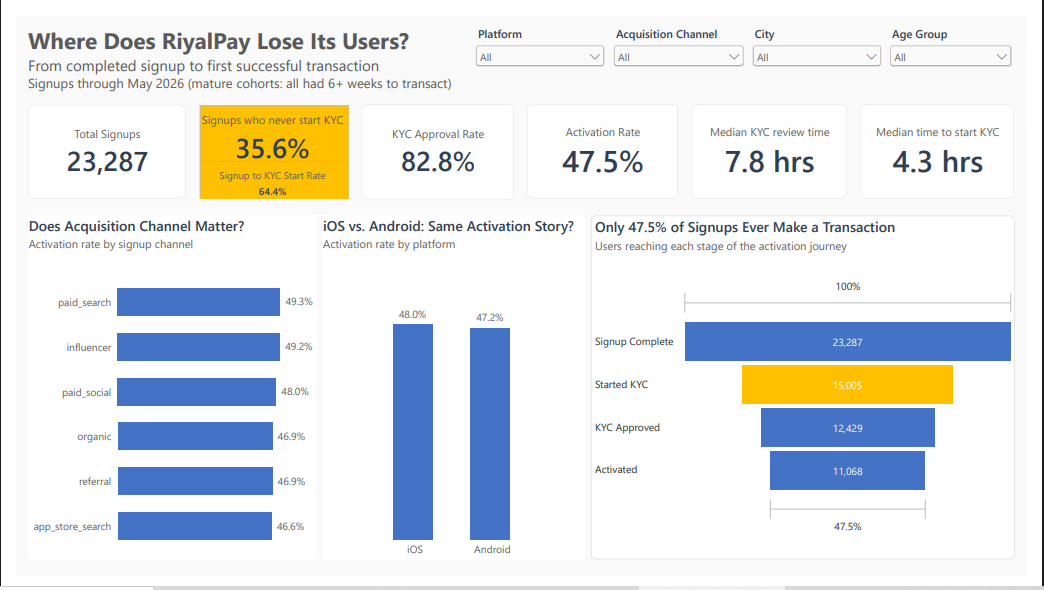

The dashboard page shown, as its layout file describes it:
{"tool":"powerbi","page":{"name":"Activation Funnel","canvas":[1440,800],"ordinal":0},"visuals":[{"type":"funnel","fields":{"Y":["_measures.Reached Signup","_measures.Reached KYC Start","_measures.Reached KYC Approved","_measures.Reached Activation"]},"box":[818.9,285,604.7,491.3],"z":0},{"type":"textbox","box":[15.7,11,1406.3,100.8],"z":1000},{"type":"cardVisual","fields":{"Data":["_measures.Total Signups"]},"box":[15.7,127,225.1,134.1],"z":1000,"group":"g1"},{"type":"slicer","fields":{"Values":["fact_user_funnel.platform"]},"box":[650,13.3,193.3,65],"z":2000},{"type":"cardVisual","fields":{"Data":["_measures.Signup to KYC Start Drop-off %"]},"box":[260.3,128.5,212.2,132.7],"z":2000,"group":"g1"},{"type":"slicer","fields":{"Values":["fact_user_funnel.signup_channel"]},"box":[846.7,13.3,195,68.3],"z":3000},{"type":"cardVisual","fields":{"Data":["_measures.KYC Approval Rate"]},"box":[491.3,126,217,137.1],"z":3000,"group":"g1"},{"type":"slicer","fields":{"Values":["fact_user_funnel.city"]},"box":[1045,13.3,193.3,63.3],"z":4000},{"type":"cardVisual","fields":{"Data":["_measures.Activation Rate"]},"box":[727.8,126,215.4,135.6],"z":4000,"group":"g1"},{"type":"slicer","fields":{"Values":["fact_user_funnel.age_bracket"]},"box":[1240.9,12.6,182.7,61.4],"z":5000},{"type":"group","id":"g1","title":"Group 1","box":[15.7,126,1406.3,137],"z":6000},{"type":"clusteredBarChart","title":"\tDoes Acquisition Channel Matter?","fields":{"Category":["fact_user_funnel.signup_channel"],"Y":["_measures.Activation Rate"]},"box":[15.7,285,411,491.3],"z":7000},{"type":"clusteredColumnChart","title":" iOS vs. Android: Same Activation Story?","fields":{"Category":["fact_user_funnel.platform"],"Y":["_measures.Activation Rate"]},"box":[436.2,285,373.3,491.7],"z":8000},{"type":"cardVisual","fields":{"Data":["_measures.Median Hours to KYC Start"]},"box":[1203.9,126,218.6,135.6],"z":10000,"group":"g1"},{"type":"cardVisual","fields":{"Data":["_measures.Median Hours to KYC Approval"]},"box":[962.6,126,221.9,135.6],"z":11000,"group":"g1"}]}

Visuals, with their boxes in screenshot pixels (x1, y1, x2, y2), scaled from the page's 1440x800 canvas onto the 1044x590 screenshot:
funnel - _measures.Reached Signup x _measures.Reached KYC Start: (594,210,1032,573)
textbox: (11,8,1031,82)
cardVisual - _measures.Total Signups: (11,94,175,193)
slicer - fact_user_funnel.platform: (471,10,611,58)
cardVisual - _measures.Signup to KYC Start Drop-off %: (189,95,343,193)
slicer - fact_user_funnel.signup_channel: (614,10,755,60)
cardVisual - _measures.KYC Approval Rate: (356,93,514,194)
slicer - fact_user_funnel.city: (758,10,898,56)
cardVisual - _measures.Activation Rate: (528,93,684,193)
slicer - fact_user_funnel.age_bracket: (900,9,1032,55)
"Group 1" group: (11,93,1031,194)
"	Does Acquisition Channel Matter?" clusteredBarChart: (11,210,309,573)
" iOS vs. Android: Same Activation Story?" clusteredColumnChart: (316,210,587,573)
cardVisual - _measures.Median Hours to KYC Start: (873,93,1031,193)
cardVisual - _measures.Median Hours to KYC Approval: (698,93,859,193)
